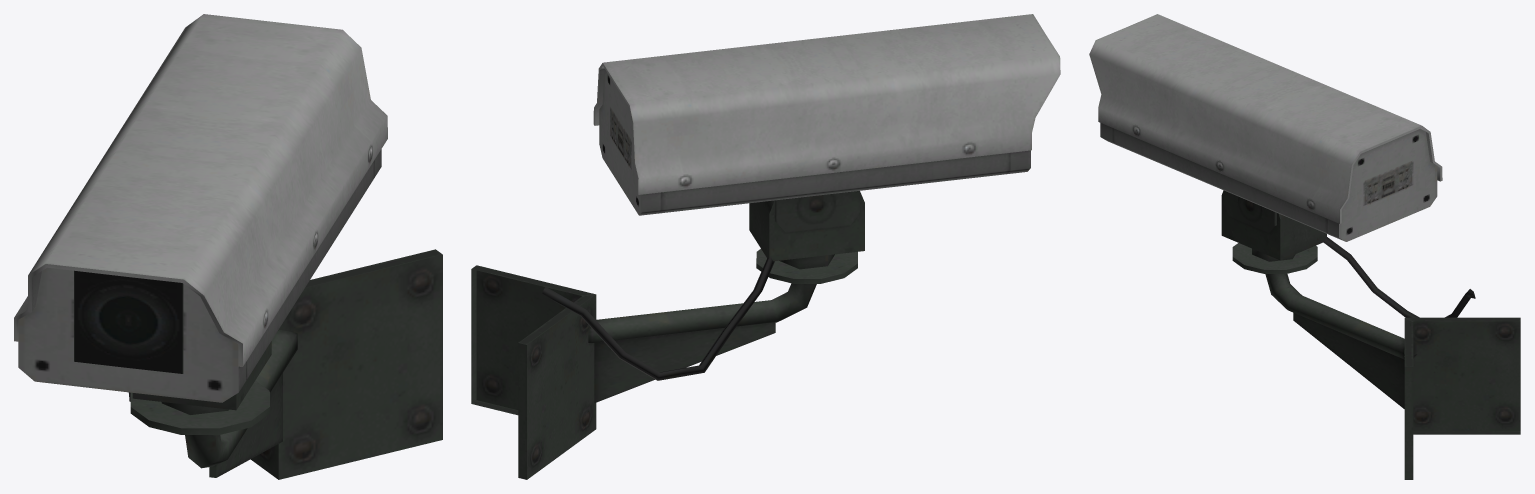
The model's file is prop_cctv_cam_03a.obj.
3 renders of one model, left to right at view 1: azimuth 30°, elevation 25°; view 2: azimuth 150°, elevation 25°; view 3: azimuth 270°, elevation 25°, orthographic. The views are drawn at different scales.
Size of the model in its own units: 0.7417 by 0.5476 by 0.7454.
Materials: 1 (1 with a texture image).
